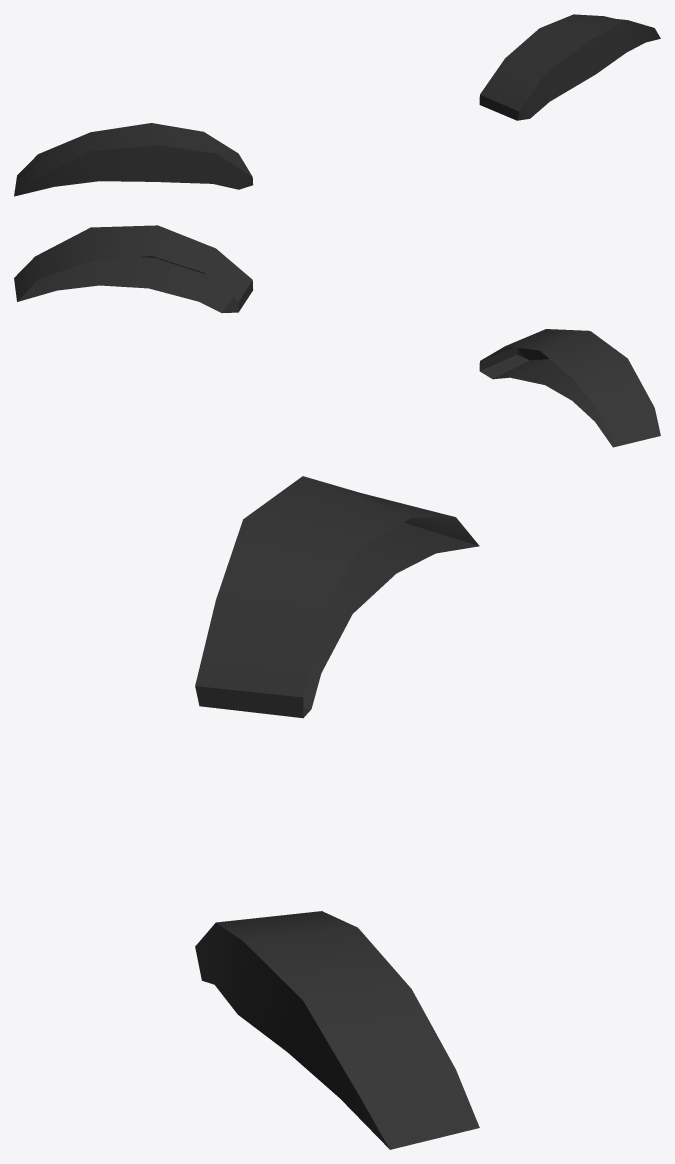
File: Eyebrow_4.fbx
3 views of the same model, one above another, from view 1: azimuth 30°, elevation 25°; view 2: azimuth 150°, elevation 25°; view 3: azimuth 270°, elevation 25° (orthographic). The views are drawn at different scales.
Visible parts, largest first — view 1: Eyebrow_4; view 2: Eyebrow_4; view 3: Eyebrow_4.
Boxes of the visible parts, left/top/right/bottom form: Eyebrow_4: left=14, top=14, right=660, bottom=196; Eyebrow_4: left=14, top=225, right=660, bottom=447; Eyebrow_4: left=195, top=476, right=479, bottom=1149.
Bounding box in the file's own units: 33.06 × 2.71 × 6.3.
